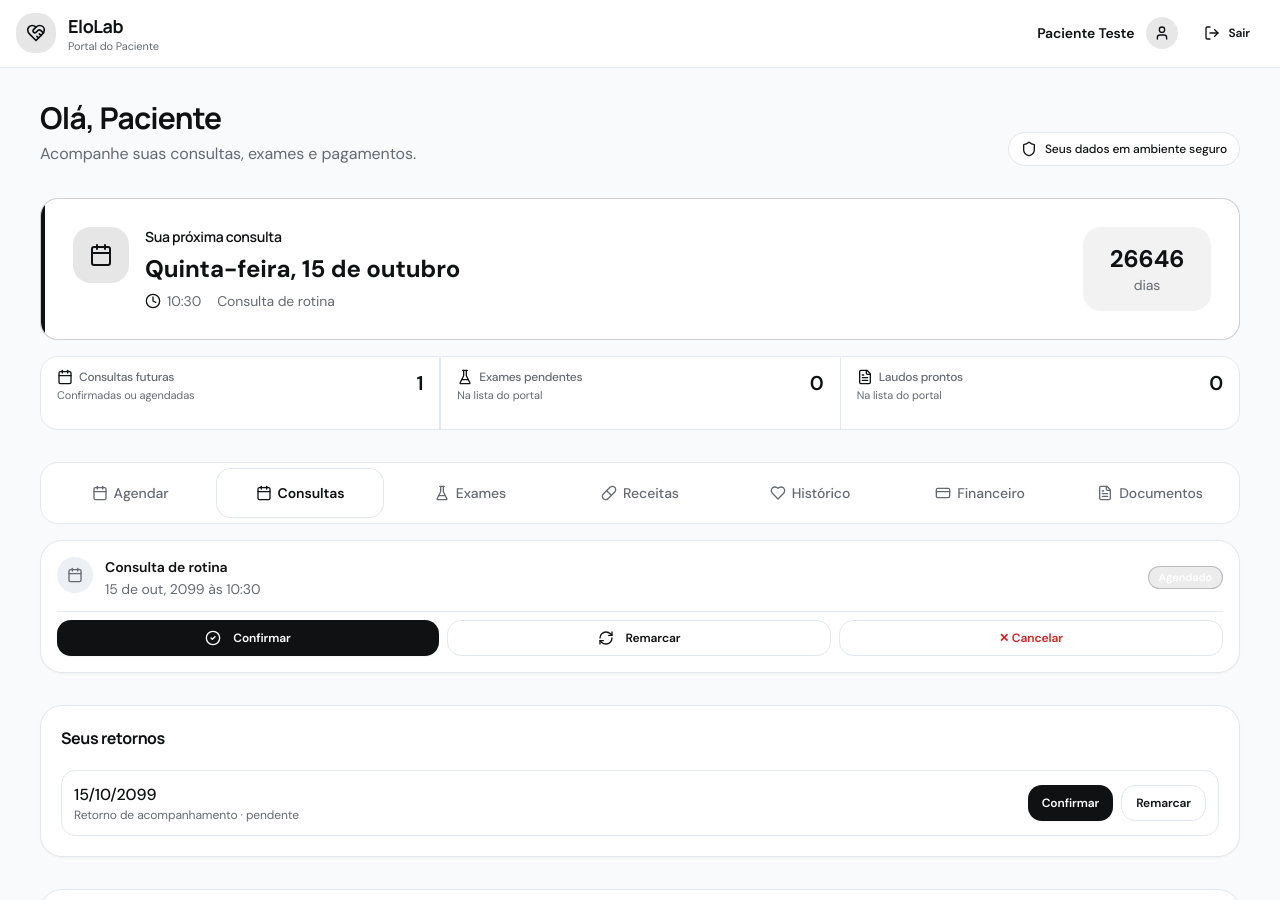
PortalPaciente — cancelamento de consulta › atualiza a lista e impede nova tentativa quando o estado muda ao cancelar
Click the button "✕ Cancelar": (1031, 638) 839,620 -> 1223,656
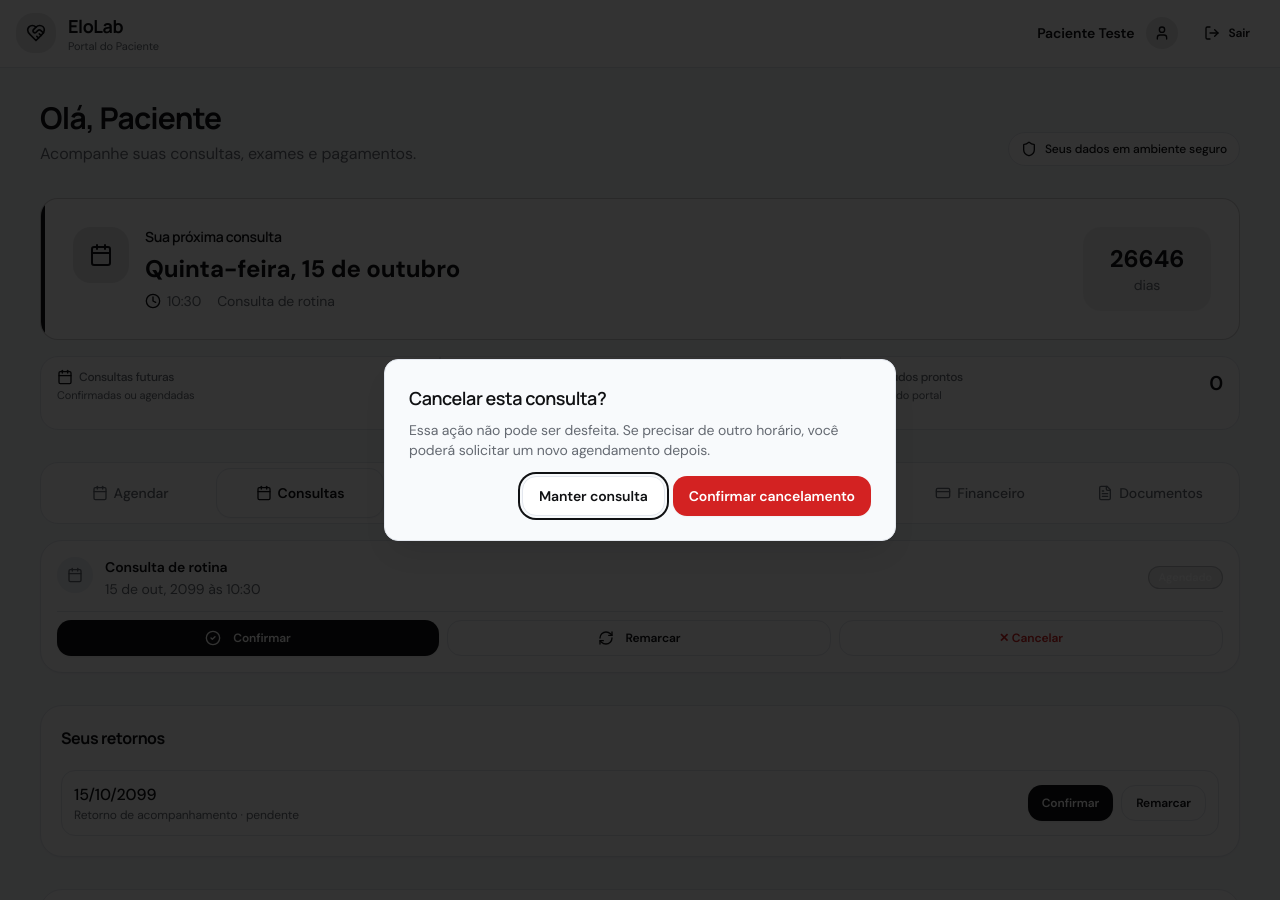
Click the button "Confirmar cancelamento": (772, 496) 673,476 -> 871,516
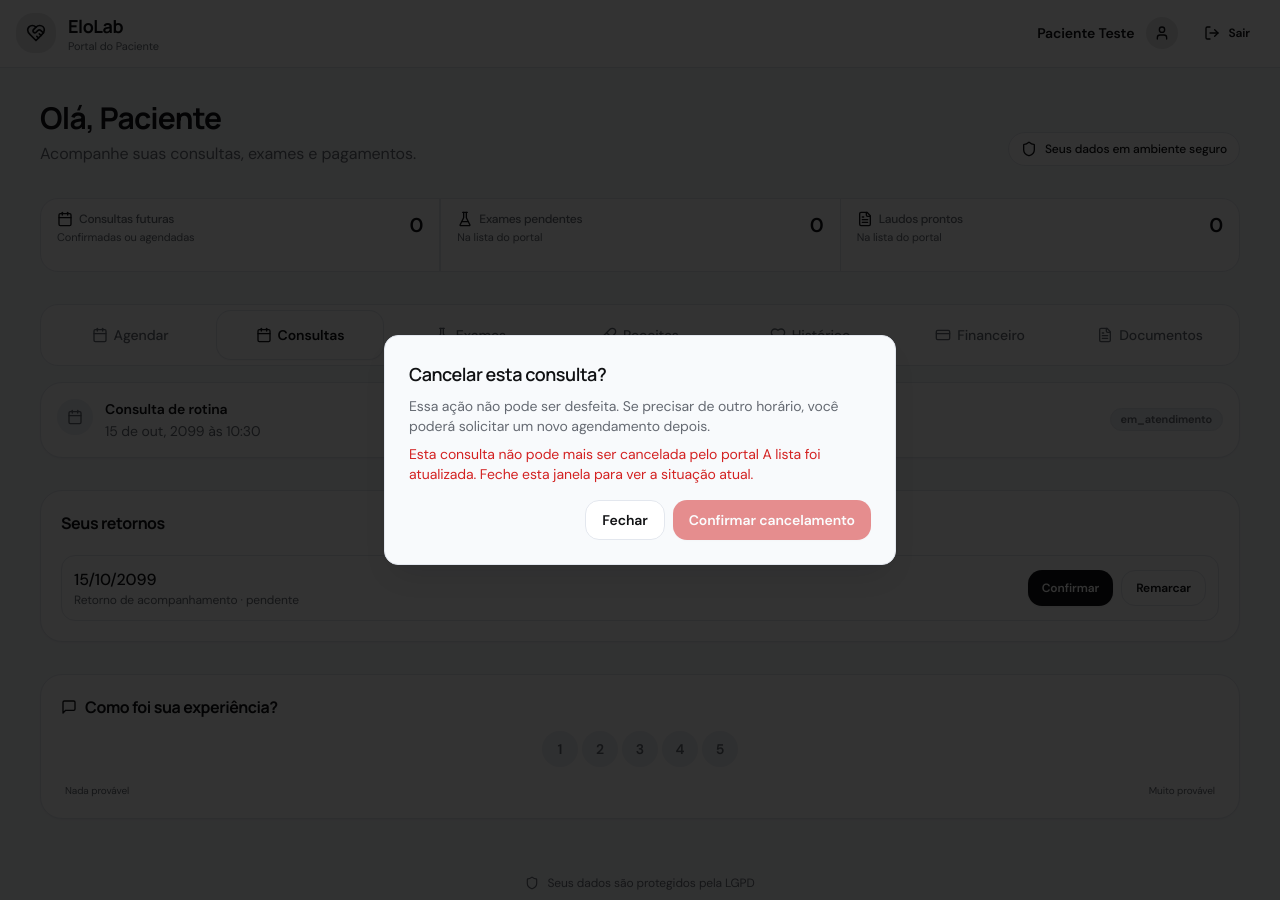
expect the button "Fechar" is enabled: met
expect the message shows "A lista foi atualizada.": met, box 409,445 -> 821,483
expect the button "Confirmar cancelamento" is disabled: met, box 673,500 -> 871,540
Click the button "Fechar": (625, 520) 585,500 -> 665,540
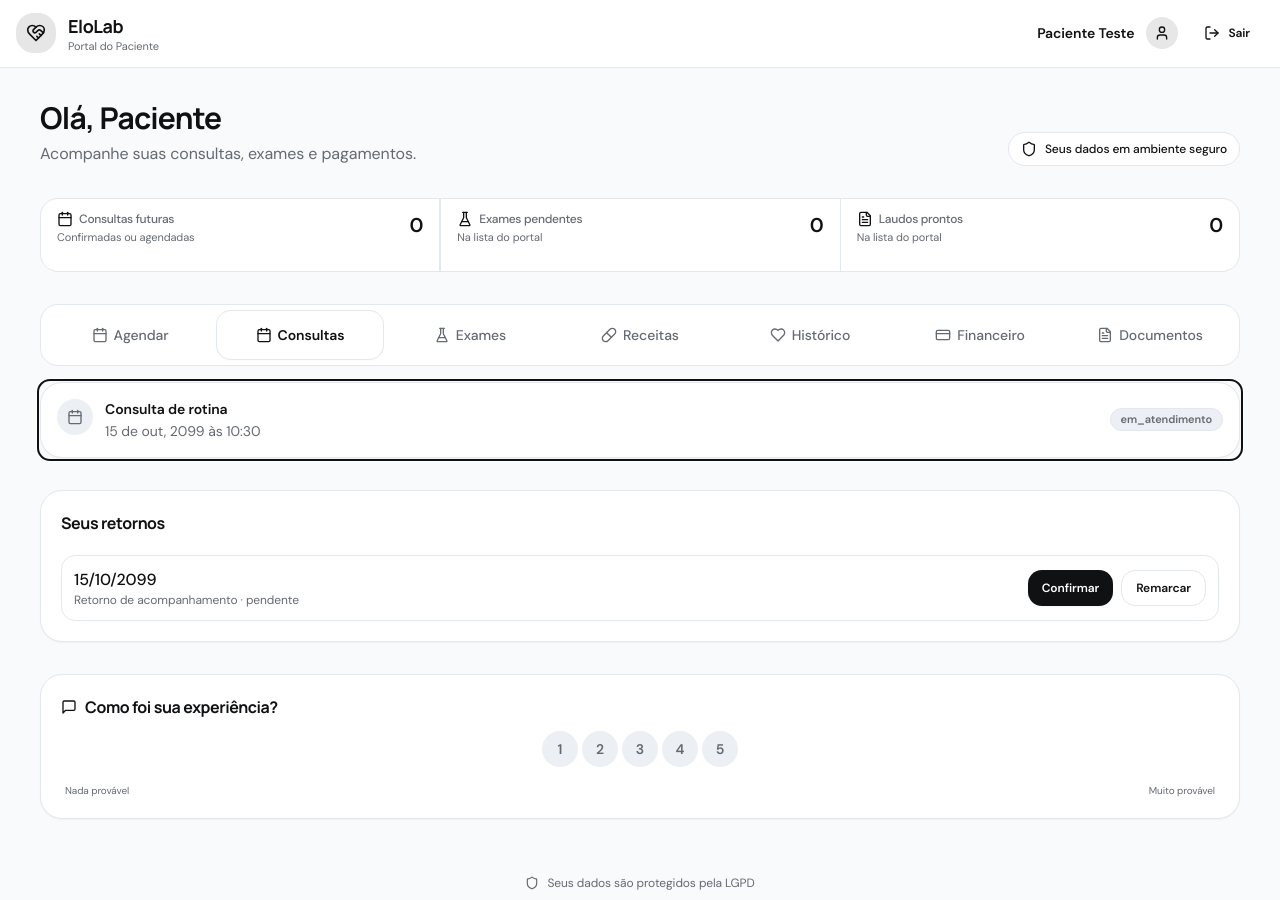
expect the dialog is gone: met
